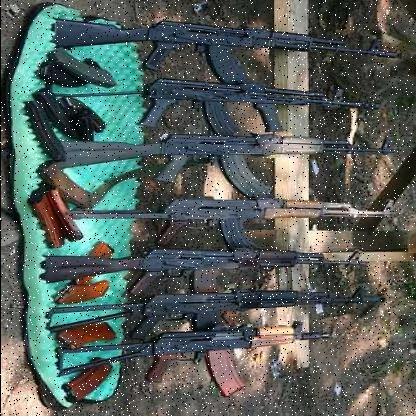rifle: (28, 17, 406, 90), (10, 318, 352, 398), (67, 178, 408, 257), (53, 128, 403, 199), (20, 232, 369, 301), (36, 78, 403, 137), (43, 286, 396, 341)
